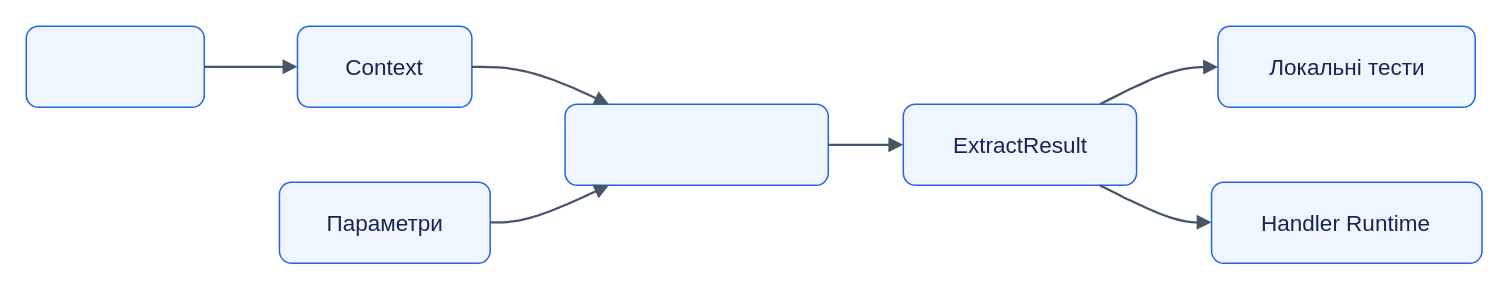
This 1509x290 diagram has some shape labels left out. Here are the shapes that lost their labels. From the top down, the centre of each, then its label:
the point at 114,66: Material
the point at 696,144: Функція extract
